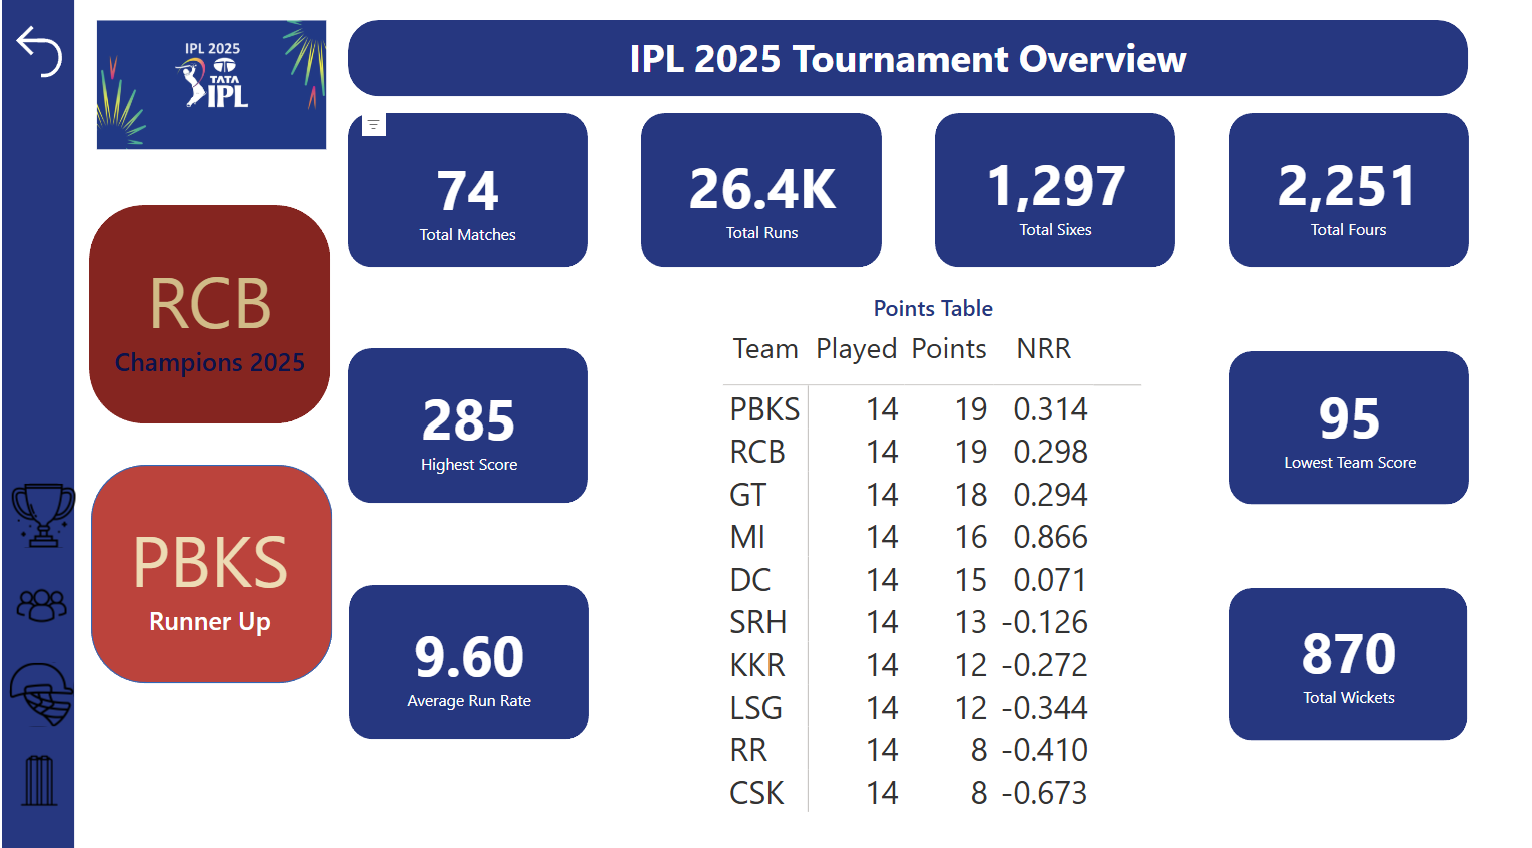

What the dashboard file says about the page in this screenshot:
{"tool":"powerbi","page":{"name":"Tournament Overview","canvas":[1280,720],"ordinal":0},"visuals":[{"type":"shape","box":[292.6,97,203,130.5],"z":0},{"type":"card","fields":{"Values":["Measures Table.Total Matches"]},"box":[315.1,101.5,158.2,134.5],"z":1000},{"type":"shape","box":[540.7,97,203,130.5],"z":2000},{"type":"card","fields":{"Values":["Measures Table.Total Runs"]},"box":[563.1,100,158.2,134.5],"z":3000},{"type":"shape","box":[788.8,97,203,130.5],"z":4000},{"type":"card","fields":{"Values":["Measures Table.Total Sixes"]},"box":[811.2,97,158.2,134.5],"z":5000},{"type":"shape","box":[1036.9,97,203,130.5],"z":6000},{"type":"card","fields":{"Values":["Measures Table.Total Fours"]},"box":[1059.3,97,158.2,134.5],"z":7000},{"type":"shape","box":[1037.4,498.3,201.7,129.2],"z":8000},{"type":"card","fields":{"Values":["Measures Table.Total Wickets"]},"box":[1059.3,492.8,159,134.8],"z":9000},{"type":"shape","box":[1036.9,298.3,203,129.2],"z":10000},{"type":"shape","box":[292.6,296.3,203,130.5],"z":11000},{"type":"card","fields":{"Values":["Measures Table.Highest Score"]},"box":[308.5,300.6,172.7,123.9],"z":12000},{"type":"card","fields":{"Values":["Measures Table.Lowest Team Score"]},"box":[1059.9,294,159.5,134.5],"z":13000},{"type":"pivotTable","title":"Points Table","fields":{"Rows":["TeamTotalsTable.batting_team"],"Values":["Measures Table.Group Stage matches","Measures Table.Total Points","Measures Table.NRR","Measures Table.TeamRank"]},"box":[604.8,248.8,364,467.7],"z":14000},{"type":"shape","box":[294,495.7,203,130.5],"z":15000},{"type":"card","fields":{"Values":["Measures Table.Average Run Rate"]},"box":[308.5,499.6,172.7,123.9],"z":16000},{"type":"image","box":[74.9,0,203.9,146.3],"z":17000},{"type":"shape","box":[292.6,18.4,946.9,64.5],"z":18000},{"type":"textbox","box":[357.1,23,817.9,55.3],"z":19000},{"type":"shape","box":[73.8,175.3,204.3,184.6],"z":20000},{"type":"shape","box":[75.1,394.2,204.3,184.6],"z":21000},{"type":"card","fields":{"Values":["Measures Table.Champions"]},"box":[26.4,117.3,299.2,299.2],"z":22000},{"type":"card","fields":{"Values":["Measures Table.Runner Up"]},"box":[26.4,336.1,299.2,299.2],"z":23000},{"type":"shape","box":[0,0,61.1,720],"z":24000},{"type":"actionButton","box":[2.6,482.5,85.7,62],"z":25000},{"type":"actionButton","box":[2.6,557.6,85.7,62],"z":26000},{"type":"actionButton","box":[0,631.4,85.7,62],"z":27000},{"type":"actionButton","box":[4,406,85.7,62],"z":28000},{"type":"actionButton","box":[3.5,17.3,61.1,56.4],"z":29000}]}

Visuals, with their boxes on the page's 1280x720 design canvas (x1, y1, x2, y2). These are canvas units, not pixel positions in the 1532x848 screenshot, which may show the page scaled, cropped or inside an application window:
shape: rect(293, 97, 496, 228)
card - Measures Table.Total Matches: rect(315, 102, 473, 236)
shape: rect(541, 97, 744, 228)
card - Measures Table.Total Runs: rect(563, 100, 721, 234)
shape: rect(789, 97, 992, 228)
card - Measures Table.Total Sixes: rect(811, 97, 969, 232)
shape: rect(1037, 97, 1240, 228)
card - Measures Table.Total Fours: rect(1059, 97, 1218, 232)
shape: rect(1037, 498, 1239, 628)
card - Measures Table.Total Wickets: rect(1059, 493, 1218, 628)
shape: rect(1037, 298, 1240, 428)
shape: rect(293, 296, 496, 427)
card - Measures Table.Highest Score: rect(308, 301, 481, 424)
card - Measures Table.Lowest Team Score: rect(1060, 294, 1219, 428)
"Points Table" pivotTable: rect(605, 249, 969, 716)
shape: rect(294, 496, 497, 626)
card - Measures Table.Average Run Rate: rect(308, 500, 481, 624)
image: rect(75, 0, 279, 146)
shape: rect(293, 18, 1240, 83)
textbox: rect(357, 23, 1175, 78)
shape: rect(74, 175, 278, 360)
shape: rect(75, 394, 279, 579)
card - Measures Table.Champions: rect(26, 117, 326, 416)
card - Measures Table.Runner Up: rect(26, 336, 326, 635)
shape: rect(0, 0, 61, 720)
actionButton: rect(3, 482, 88, 544)
actionButton: rect(3, 558, 88, 620)
actionButton: rect(0, 631, 86, 693)
actionButton: rect(4, 406, 90, 468)
actionButton: rect(4, 17, 65, 74)
